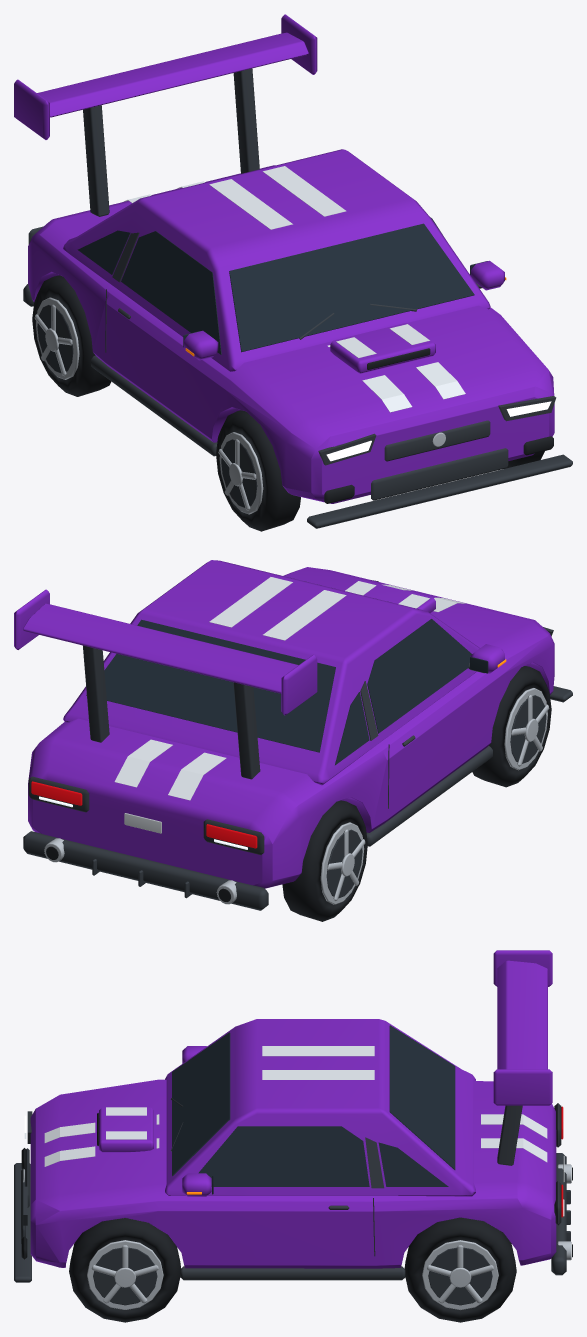
File: NPC_SportCoupe_LOD1.fbx
3 views of the same model, one above another, from view 1: azimuth 30°, elevation 25°; view 2: azimuth 150°, elevation 25°; view 3: azimuth 270°, elevation 25° (orthographic). The views are drawn at different scales.
Parts seen in each view (by area): view 1: NPC_SportCoupe_LOD1; view 2: NPC_SportCoupe_LOD1; view 3: NPC_SportCoupe_LOD1.
Part boxes in pixels (x1,y1,x2,y2): NPC_SportCoupe_LOD1: (14, 14, 572, 531); NPC_SportCoupe_LOD1: (14, 560, 572, 921); NPC_SportCoupe_LOD1: (14, 950, 572, 1322).
Size of the model in its own units: 254 by 215 by 430.
